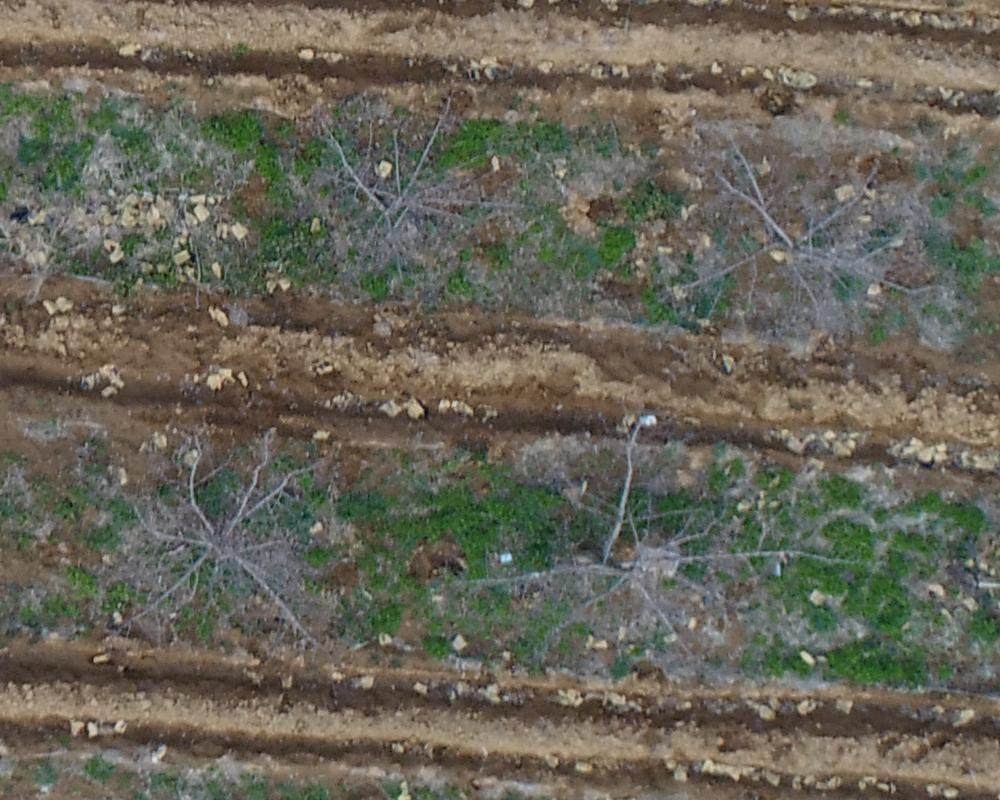apple: (439, 413, 851, 700), (249, 73, 507, 276), (670, 117, 887, 353), (85, 430, 319, 642)
